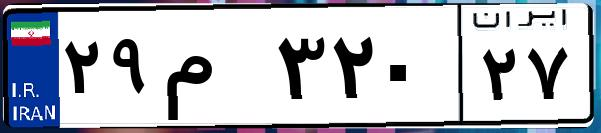0: (385, 28, 445, 110)
2: (330, 28, 385, 110), (57, 26, 110, 100), (475, 38, 525, 113)
3: (270, 28, 330, 110)
7: (525, 38, 570, 115)
9: (110, 28, 158, 98)
م: (158, 20, 270, 120)
